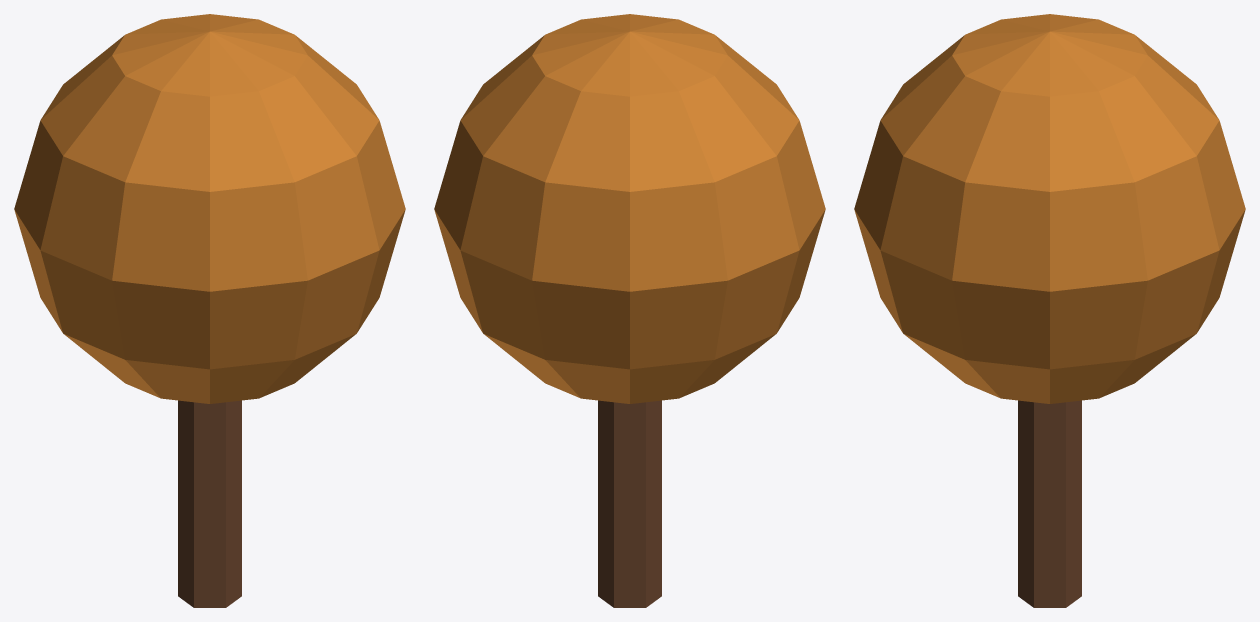
The model's file is tree_orange.glb.
3 views of the same model, side by side, from view 1: azimuth 30°, elevation 25°; view 2: azimuth 150°, elevation 25°; view 3: azimuth 270°, elevation 25° (orthographic).
Parts seen in each view (by area): view 1: tree_orange; view 2: tree_orange; view 3: tree_orange.
Boxes of the visible parts, left/top/right/bottom form: tree_orange: left=14, top=14, right=405, bottom=607; tree_orange: left=434, top=14, right=825, bottom=607; tree_orange: left=854, top=14, right=1245, bottom=607.
Size of the model in its own units: 0.22 by 0.35 by 0.22.
